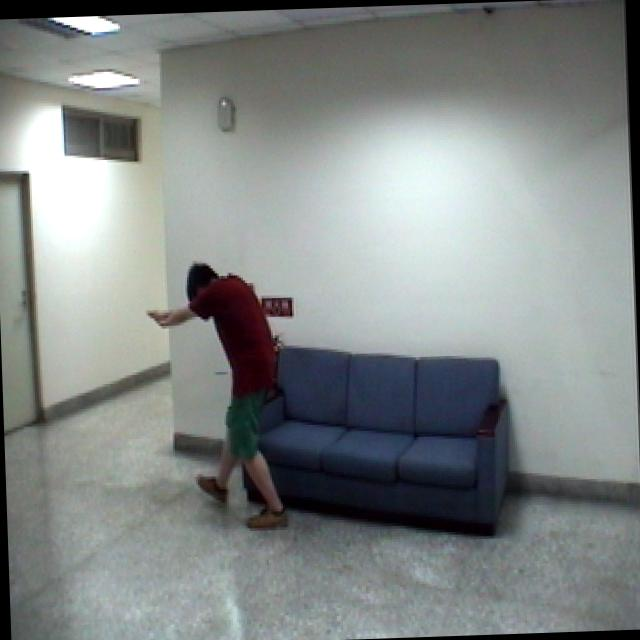bend: (142, 254, 312, 540)
